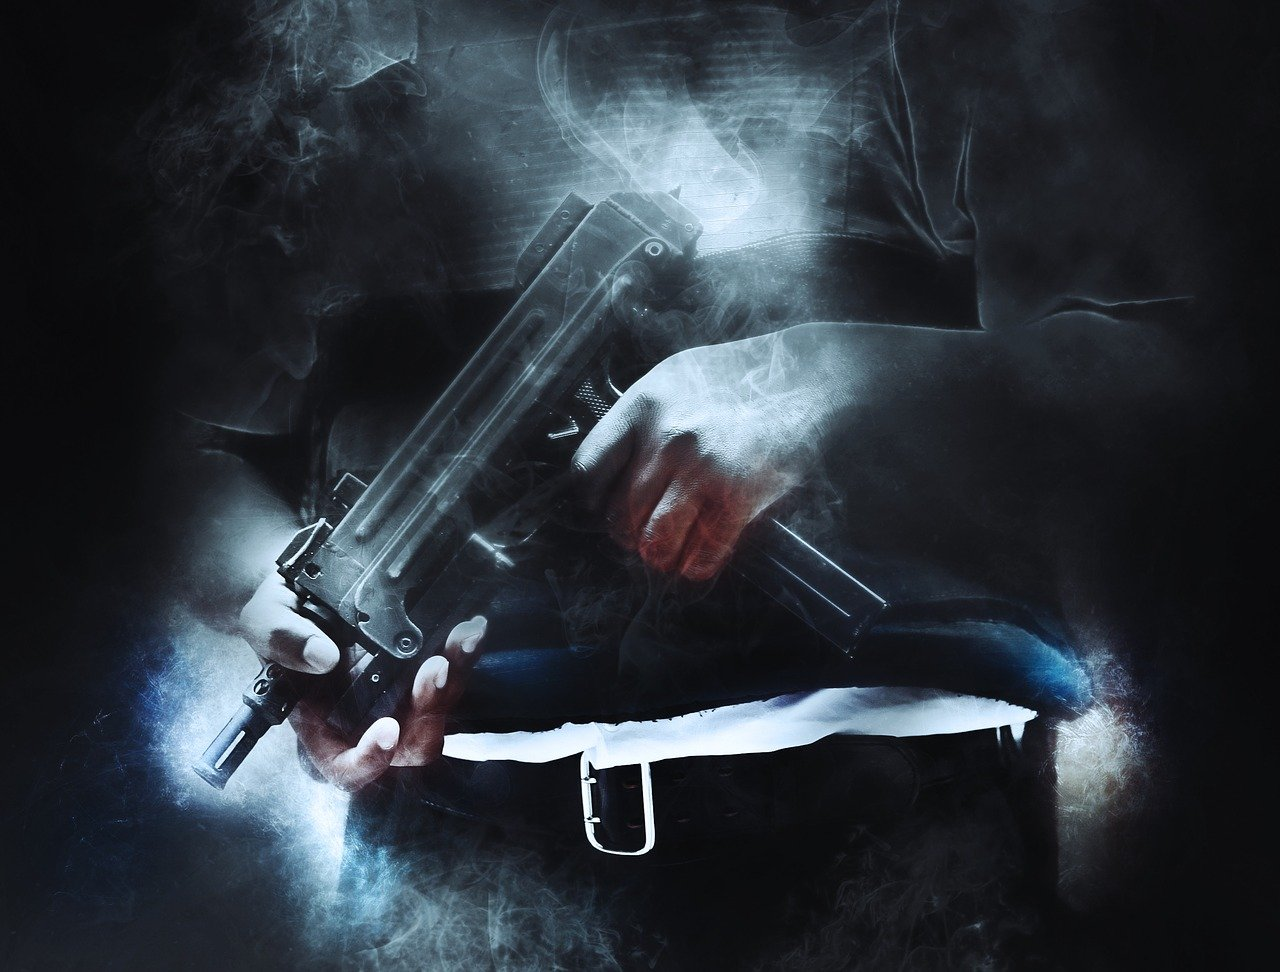gun: (188, 176, 899, 795)
